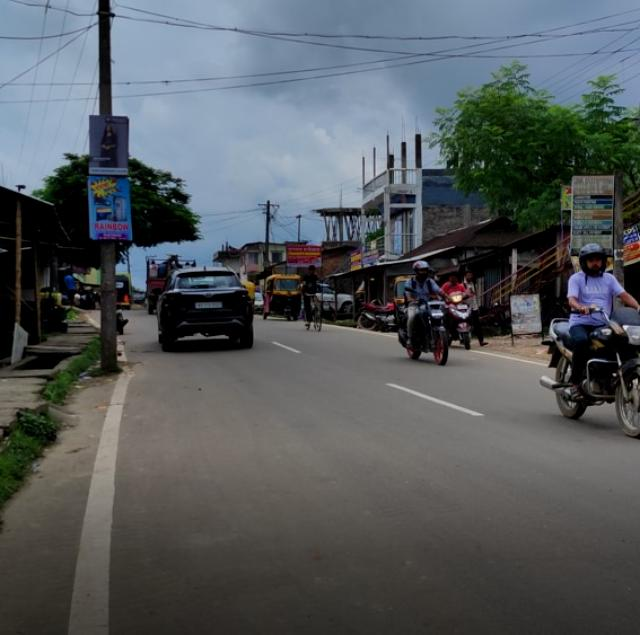motorcycle: (540, 234, 640, 438), (399, 256, 456, 365)
withHelmet: (578, 239, 608, 276), (409, 259, 432, 280)
